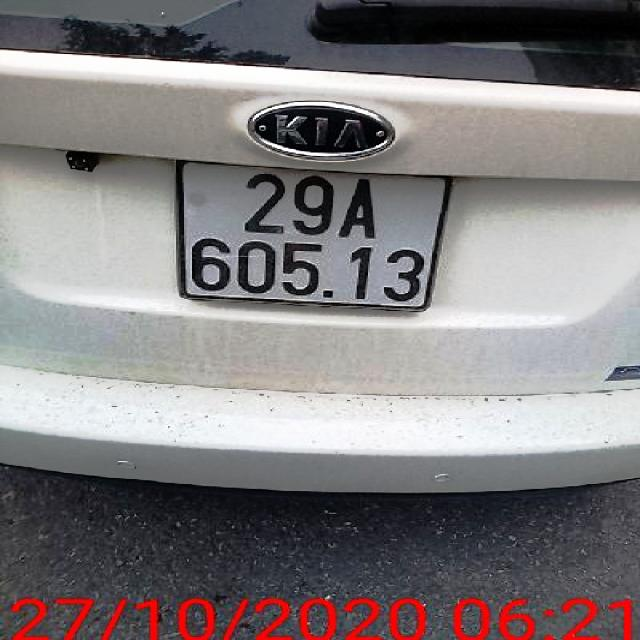license_plate: (181, 168, 450, 312)
